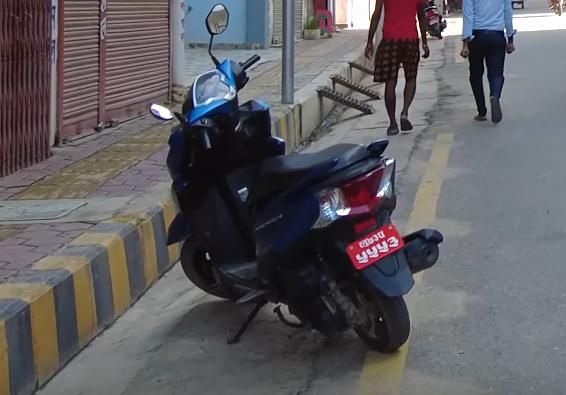scooter: (145, 2, 449, 358)
